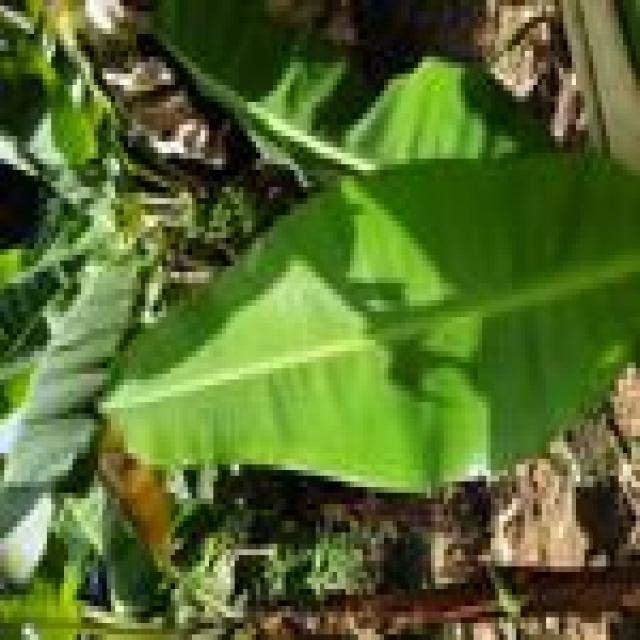Early_rust: (82, 402, 172, 584)
